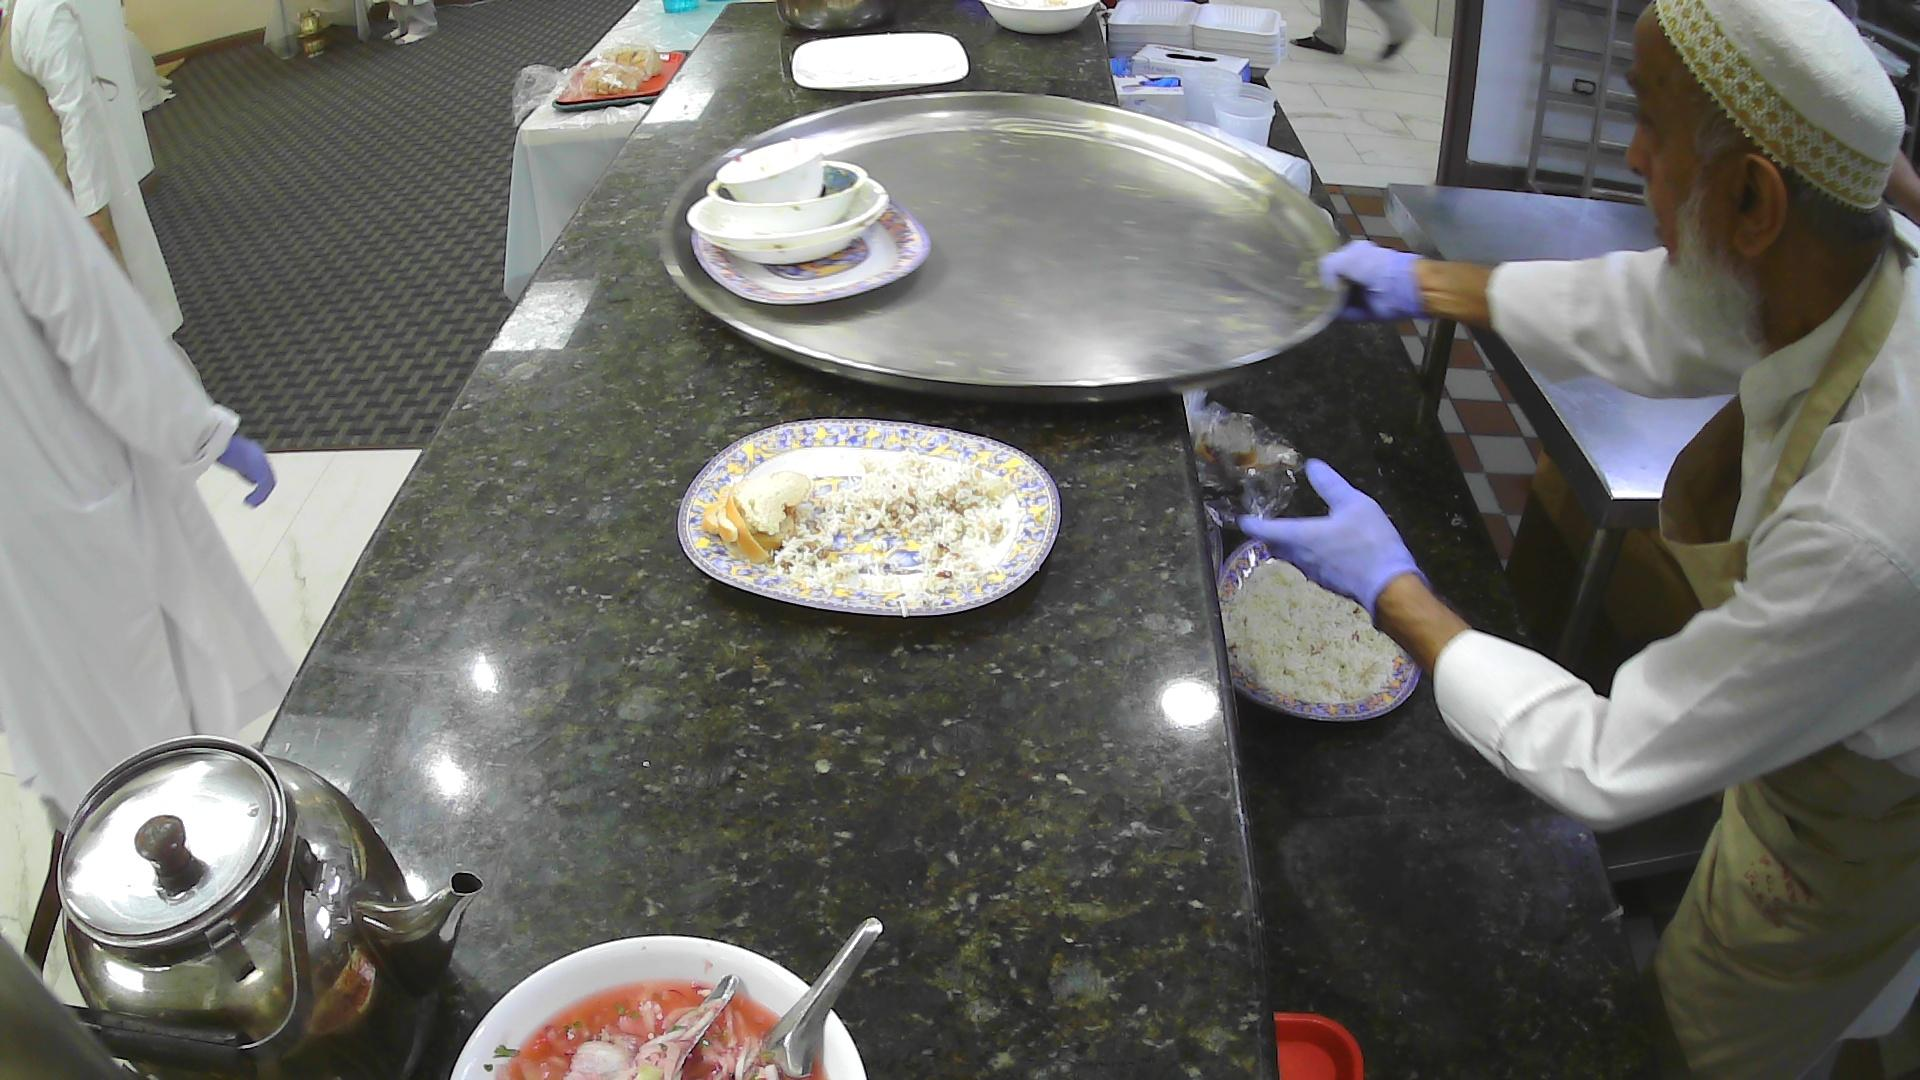thaal: (654, 90, 1352, 406)
